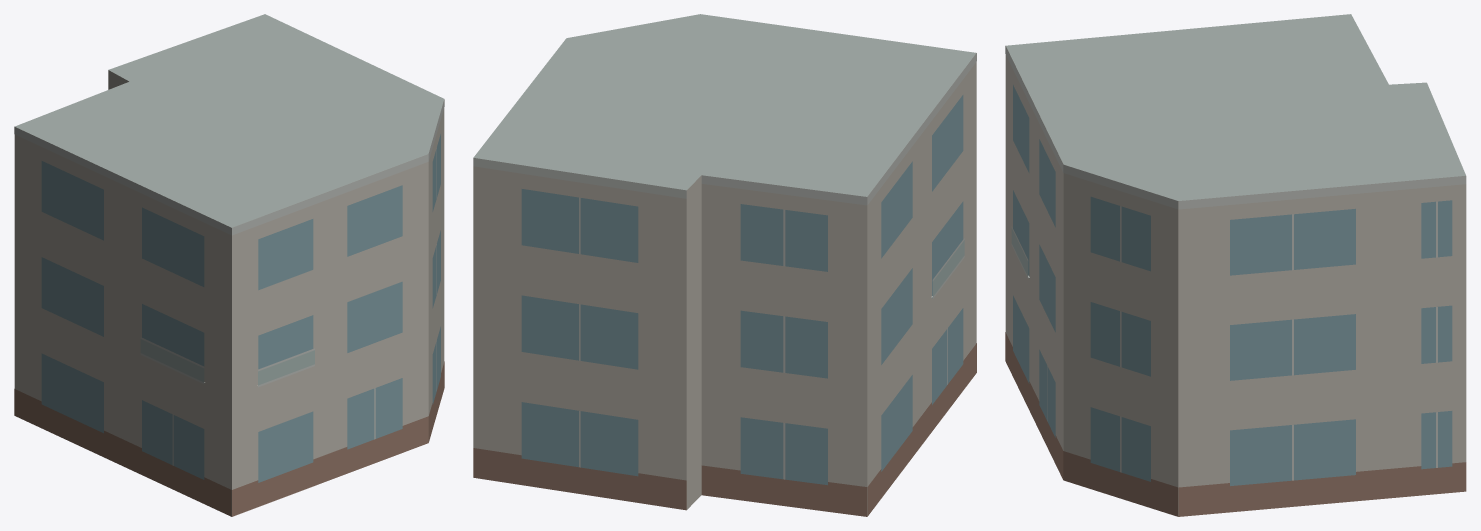
File: survey-upis-33040244.glb
3 renders of one model, left to right at view 1: azimuth 30°, elevation 25°; view 2: azimuth 150°, elevation 25°; view 3: azimuth 270°, elevation 25°, orthographic. The views are drawn at different scales.
Visible parts, largest first — view 1: survey-upis-33040244.tmp; view 2: survey-upis-33040244.tmp; view 3: survey-upis-33040244.tmp.
Boxes of the visible parts, x1,y1,x2,y2 form: survey-upis-33040244.tmp: (14,14,444,516); survey-upis-33040244.tmp: (473,14,976,516); survey-upis-33040244.tmp: (1005,14,1466,516).
Size of the model in its own units: 11.64 by 9.15 by 12.11.
